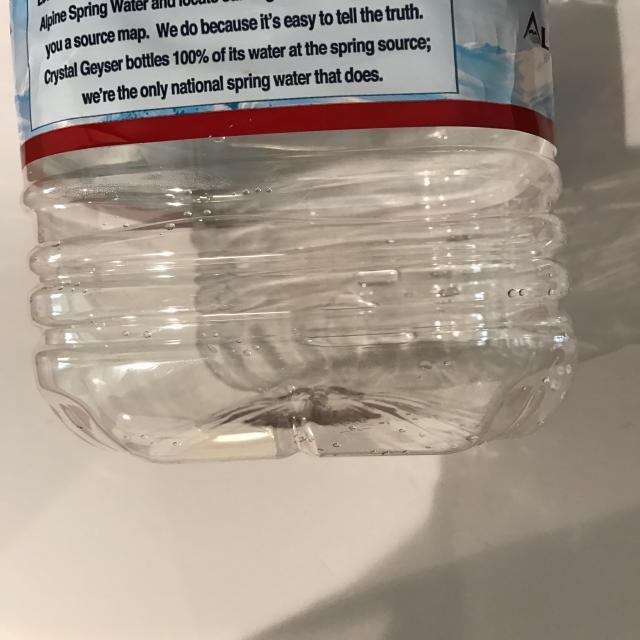plastic: (4, 2, 588, 474)
